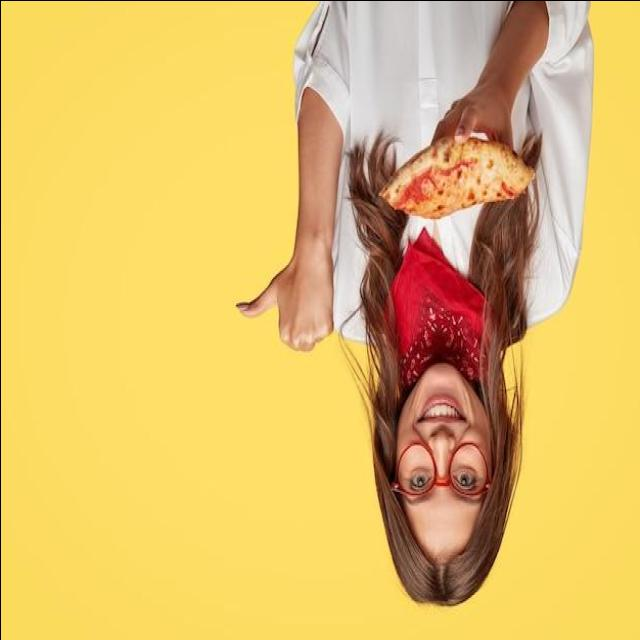pizza: (379, 138, 539, 222)
